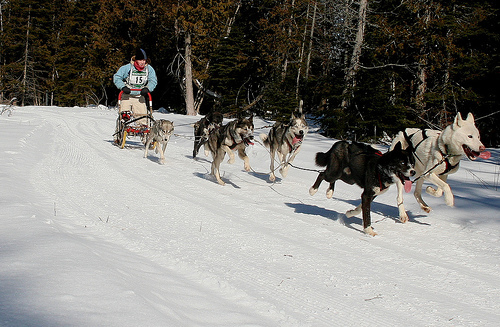dog: (388, 111, 493, 224), (309, 138, 417, 237), (202, 114, 259, 187), (262, 107, 308, 185), (140, 117, 174, 167)
